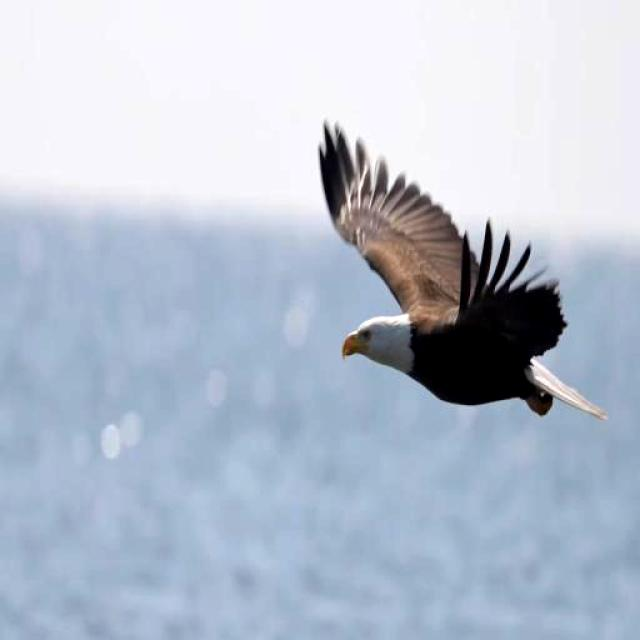airplane: (290, 101, 620, 442)
